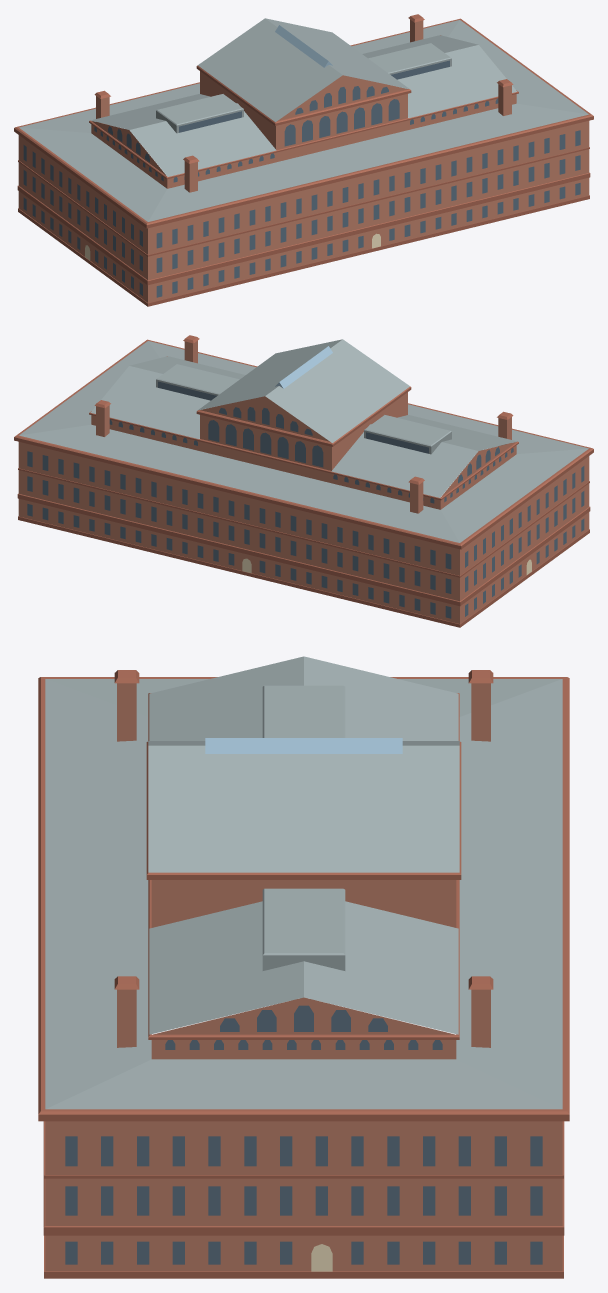
The model's file is dc-national-building-museum.glb.
The picture shows the model from 3 angles, top to bottom: view 1: azimuth 30°, elevation 25°; view 2: azimuth 150°, elevation 25°; view 3: azimuth 270°, elevation 25°; orthographic projection. The views are drawn at different scales.
Parts seen in each view (by area): view 1: National Building Museum; view 2: National Building Museum; view 3: National Building Museum.
Part boxes in pixels (left/top/right/bottom): National Building Museum: left=14, top=14, right=593, bottom=306; National Building Museum: left=14, top=335, right=593, bottom=627; National Building Museum: left=38, top=656, right=569, bottom=1278.
Bounding box in the file's own units: 125 × 43.5 × 64.5.
